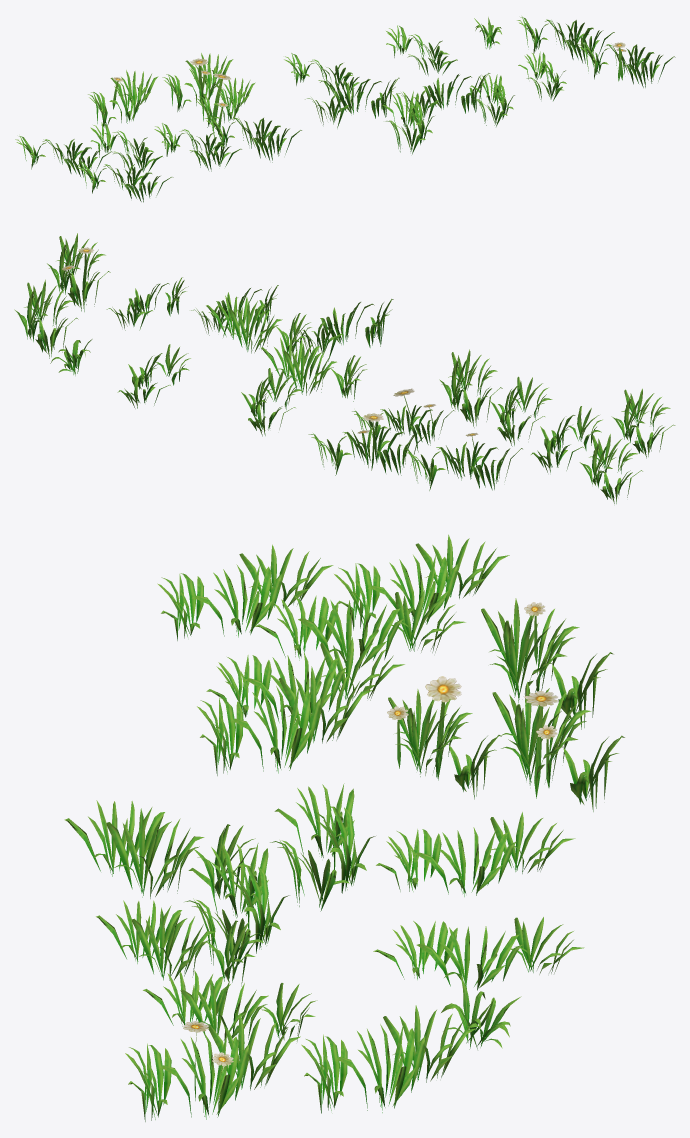
Rendered from huahua_13.fbx.
3 renders of one model, top to bottom at view 1: azimuth 30°, elevation 25°; view 2: azimuth 150°, elevation 25°; view 3: azimuth 270°, elevation 25°, orthographic. The views are drawn at different scales.
Visible parts, largest first — view 1: polySurface6420; view 2: polySurface6420; view 3: polySurface6420.
Boxes of the visible parts, left/top/right/bottom form: polySurface6420: left=15, top=16, right=675, bottom=202; polySurface6420: left=14, top=233, right=675, bottom=503; polySurface6420: left=64, top=534, right=624, bottom=1121.
Bounding box in the file's own units: 1923 × 176 × 814.
